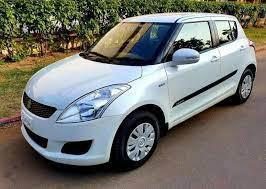Hatchback: (17, 12, 259, 170)
